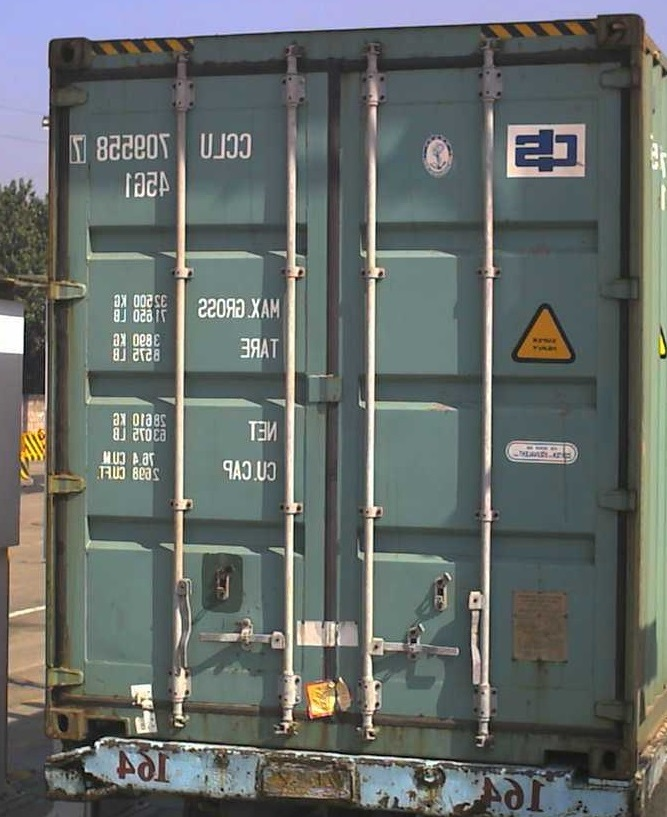container_door: (43, 12, 642, 747)
